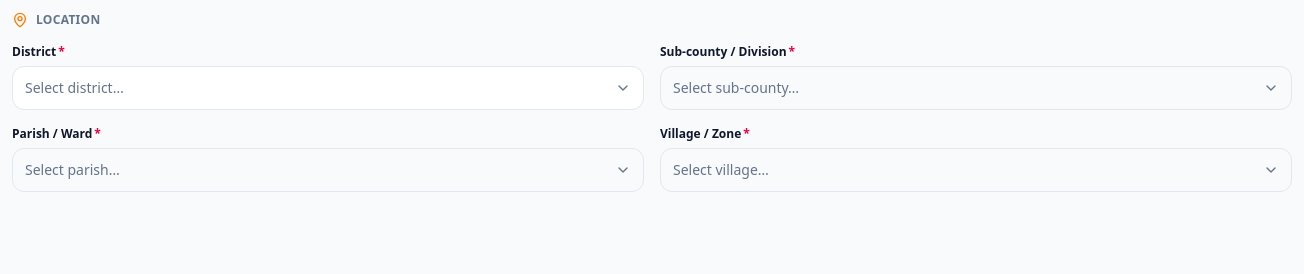
Test: CascadingLocationSelector › renders corrected parish labels from an updated dataset fixture (Jul 2026 naming fix)
This screenshot has width=1304, height=274.
Click the dropdown labelled "Select district…".
click(74, 88)  # box [12, 66, 644, 110]
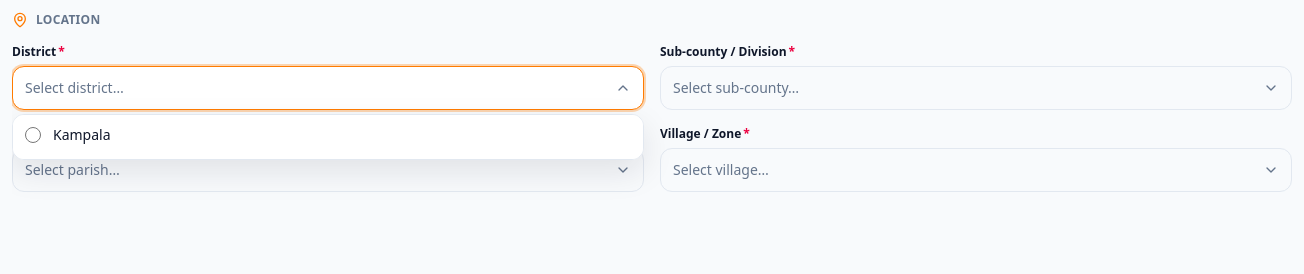
Click the radio button showing "6a4ec61c-d428-4a51-8af0-721f7d03d492".
click(33, 135)  # box [25, 127, 41, 143]
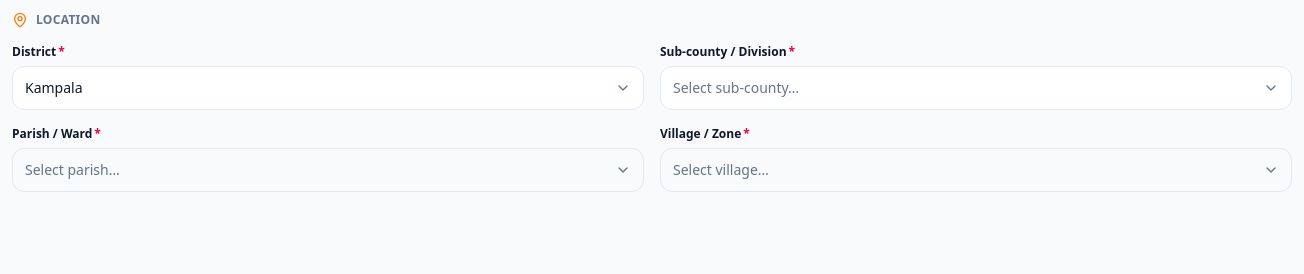
Click the dropdown labelled "Select sub-county…".
click(736, 88)  # box [660, 66, 1292, 110]
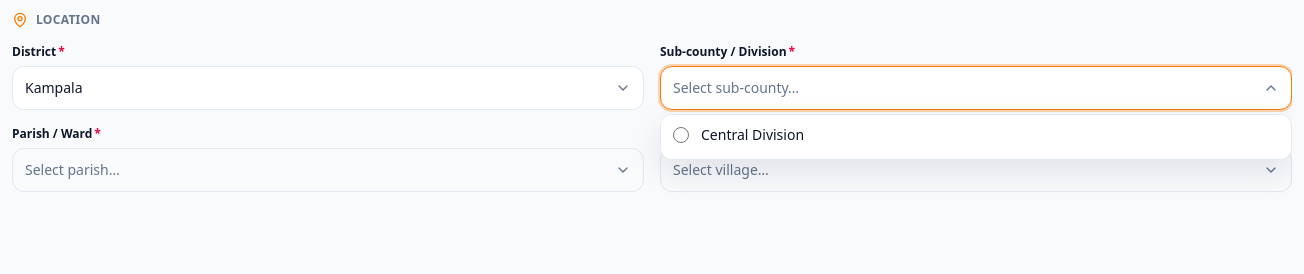
Click the radio button showing "168009f9-1188-49fb-88e8-70c93e1b7be0".
click(681, 135)  # box [673, 127, 689, 143]
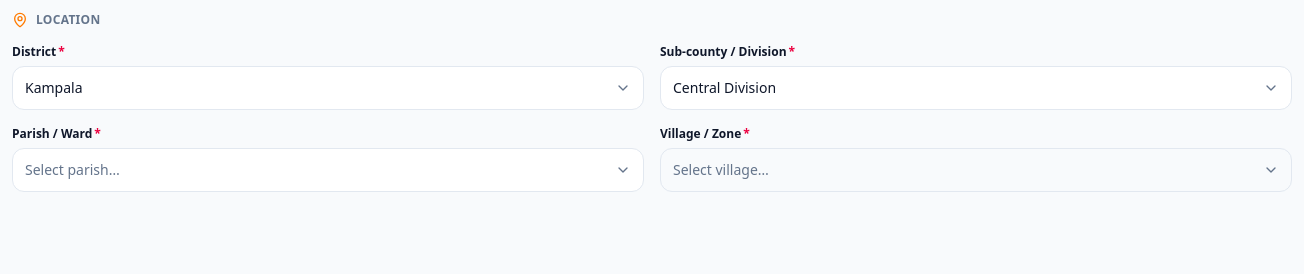
Click the dropdown labelled "Select parish…".
click(72, 170)  # box [12, 148, 644, 192]
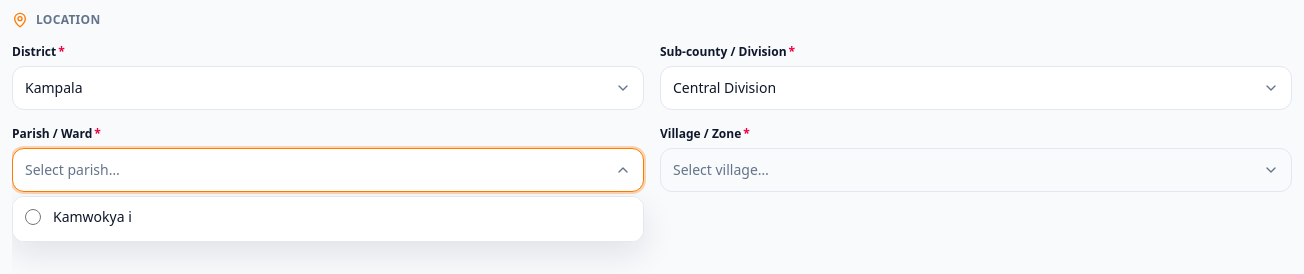
Expected: the radio button labelled "Kamwokya i" is shown, [25, 209, 41, 225]
